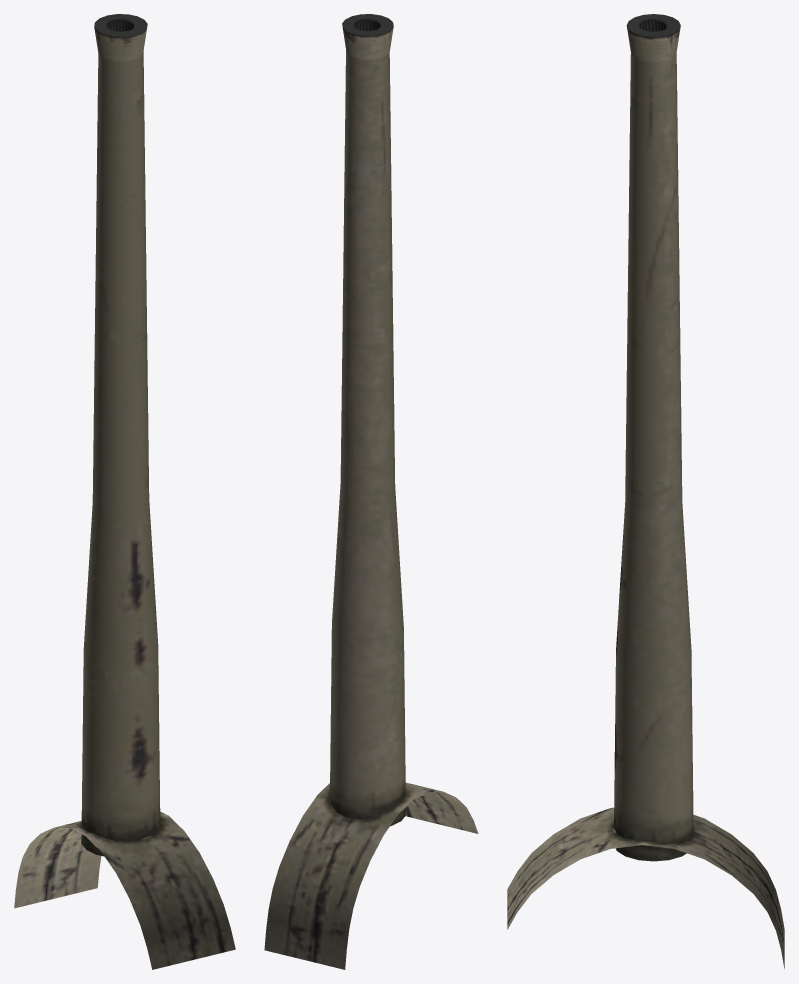
Rendered from Gun_01.glb.
3 renders of one model, left to right at view 1: azimuth 30°, elevation 25°; view 2: azimuth 150°, elevation 25°; view 3: azimuth 270°, elevation 25°, orthographic. The views are drawn at different scales.
Visible parts, largest first — view 1: set_0_group_0; view 2: set_0_group_0; view 3: set_0_group_0.
Part boxes in pixels (left/top/right/bottom): set_0_group_0: left=14, top=14, right=235, bottom=969; set_0_group_0: left=264, top=14, right=478, bottom=969; set_0_group_0: left=507, top=14, right=784, bottom=968.
Size of the model in its own units: 0.1438 by 1.51 by 0.4114.
1 material, 1 textured.
